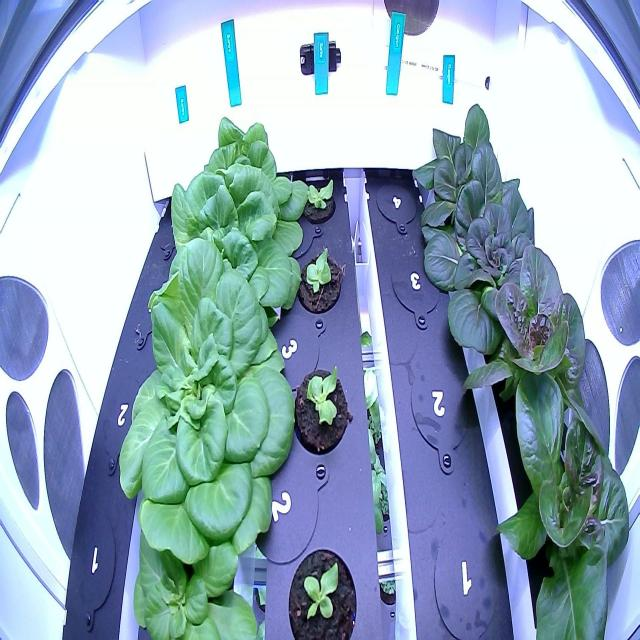empty_pod: (406, 340, 484, 484), (427, 508, 510, 639), (62, 498, 127, 636), (93, 368, 152, 474), (384, 239, 450, 329), (144, 167, 198, 267), (125, 255, 175, 355), (369, 164, 424, 239)
young: (94, 233, 303, 572), (486, 358, 634, 640), (456, 244, 614, 461), (136, 155, 308, 339), (415, 158, 557, 354), (118, 486, 270, 640), (409, 96, 535, 241), (167, 113, 316, 231), (284, 538, 358, 639), (288, 350, 354, 460), (290, 234, 348, 319), (299, 168, 342, 230)
